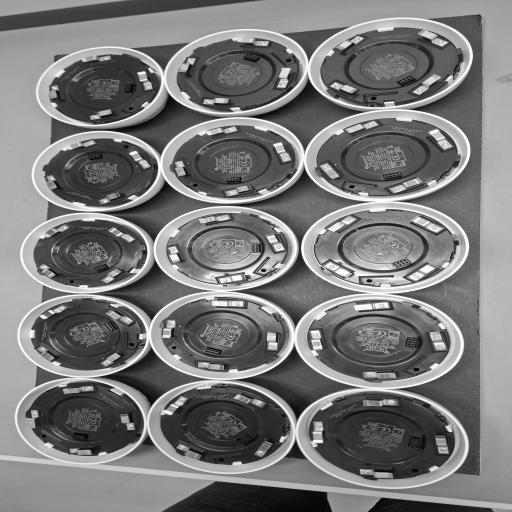konnektor: (388, 258, 410, 270), (233, 434, 254, 446), (204, 346, 225, 356), (396, 75, 414, 86), (248, 242, 261, 256), (405, 337, 420, 349), (382, 171, 404, 179), (406, 437, 421, 448), (90, 263, 108, 272), (242, 54, 262, 62), (223, 176, 245, 183), (85, 153, 106, 160), (70, 432, 86, 441), (102, 321, 116, 331), (124, 84, 138, 94)
yaysiz: (425, 128, 456, 154), (406, 214, 444, 235), (324, 214, 359, 235), (384, 177, 427, 194), (268, 140, 298, 164), (344, 118, 384, 136), (416, 29, 450, 49), (232, 390, 266, 410), (409, 261, 441, 282), (216, 268, 250, 287), (355, 368, 401, 382), (322, 262, 357, 280), (172, 444, 211, 460), (414, 74, 442, 96), (162, 395, 190, 417), (103, 226, 135, 245), (358, 395, 401, 409), (426, 329, 450, 354), (125, 149, 152, 171), (334, 34, 366, 52), (40, 223, 72, 241), (326, 79, 361, 95), (271, 66, 296, 88), (196, 212, 232, 227), (358, 466, 399, 479), (166, 243, 188, 267), (263, 230, 285, 254), (117, 411, 141, 433), (73, 54, 113, 67), (231, 35, 271, 48), (198, 124, 238, 137), (54, 384, 97, 396), (222, 184, 261, 197), (431, 432, 452, 456), (309, 420, 329, 445), (318, 160, 341, 181), (95, 191, 125, 207), (36, 305, 66, 321), (197, 96, 236, 108), (38, 263, 64, 281), (196, 360, 232, 373), (85, 108, 114, 124), (255, 438, 278, 458), (176, 57, 200, 76), (104, 308, 132, 324), (100, 351, 128, 367), (34, 345, 60, 362), (264, 330, 284, 352), (349, 302, 393, 312), (308, 328, 326, 352), (24, 408, 42, 432), (102, 268, 128, 284), (46, 82, 66, 102), (170, 159, 191, 178), (64, 139, 97, 151), (137, 70, 154, 93), (161, 318, 177, 342), (205, 300, 246, 309), (70, 447, 104, 457), (44, 174, 60, 191)
